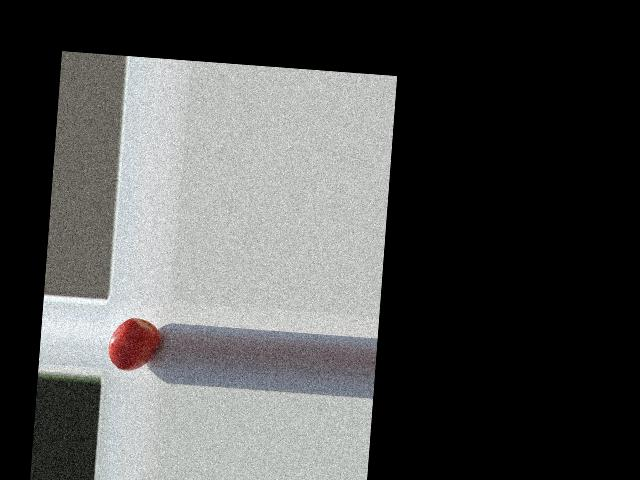tomato: (107, 316, 161, 373)
